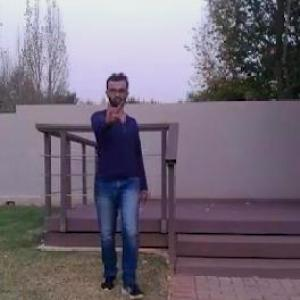takeoff-hand: (92, 92, 127, 126)
